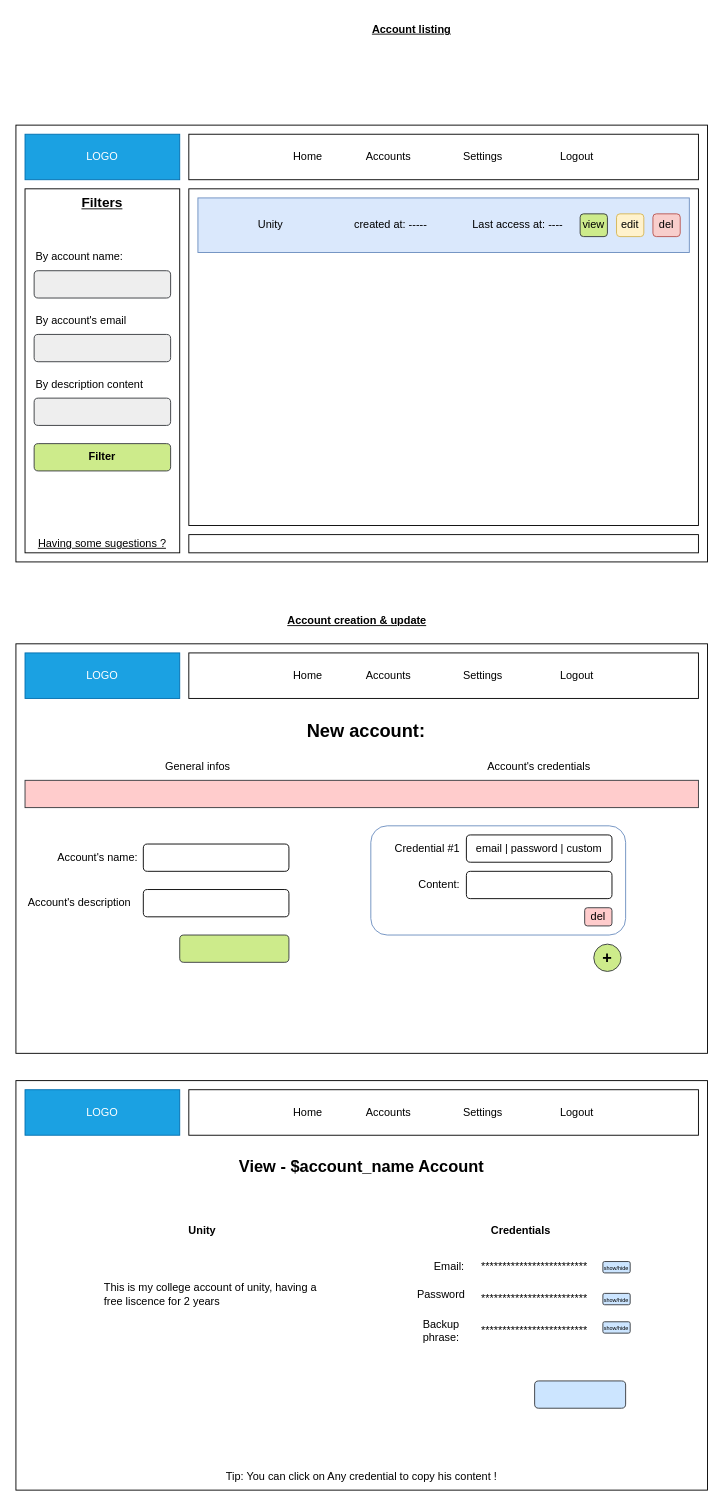
The diagram is 723 pixels wide and 1506 high, and some of its shapes have lost their labels. Each missing label, with the centre of its shape:
< Back: point 580,1394
Create: point 234,948
TIp: you can direclty click a field to view de coresponding account: point 443,543
You should add the accounts' name !: point 361,793
